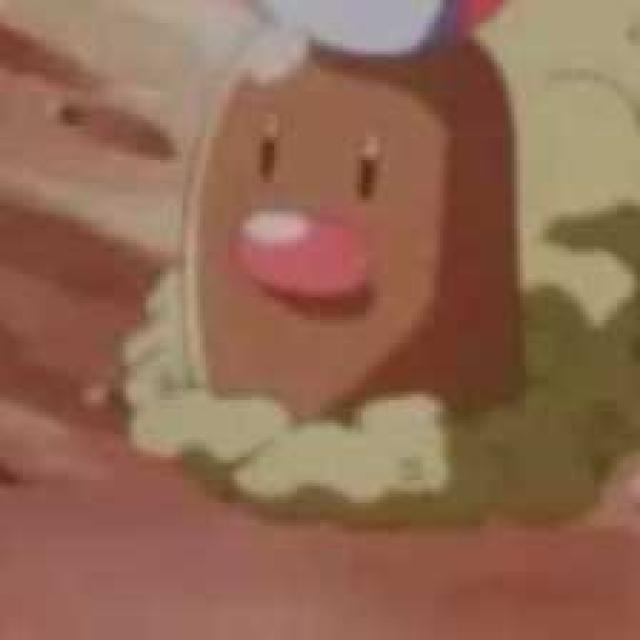Diglett: (187, 42, 525, 421)
